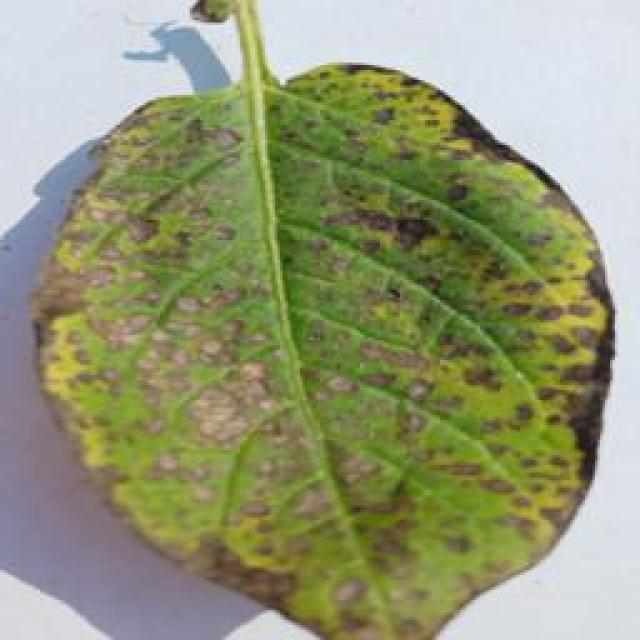Potato_Early_Blight: (43, 93, 640, 612)
